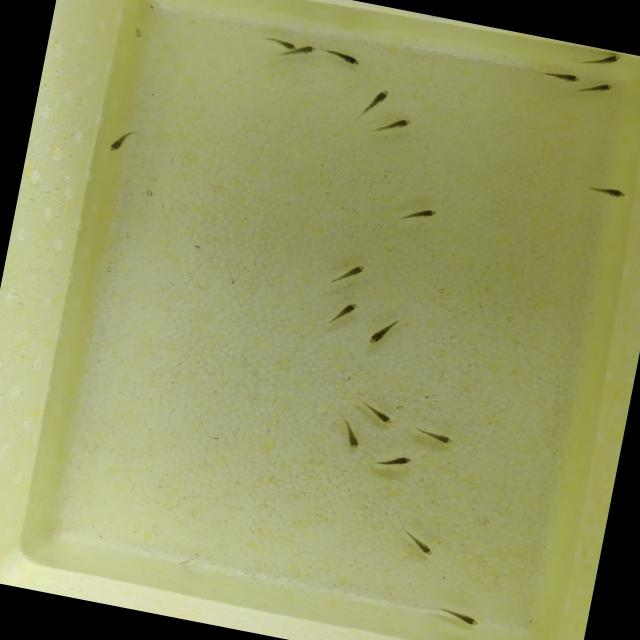fingerling: (358, 311, 403, 355), (355, 398, 403, 431), (393, 200, 444, 230), (324, 296, 364, 330), (362, 78, 392, 120), (580, 179, 634, 202), (374, 110, 414, 140), (411, 423, 458, 448), (102, 126, 136, 160), (399, 530, 439, 558), (338, 258, 370, 292), (334, 418, 367, 450), (324, 47, 366, 71), (582, 49, 624, 71), (438, 608, 484, 628), (374, 450, 413, 473), (586, 78, 620, 98), (548, 69, 582, 86), (296, 40, 318, 62), (270, 38, 298, 52)
